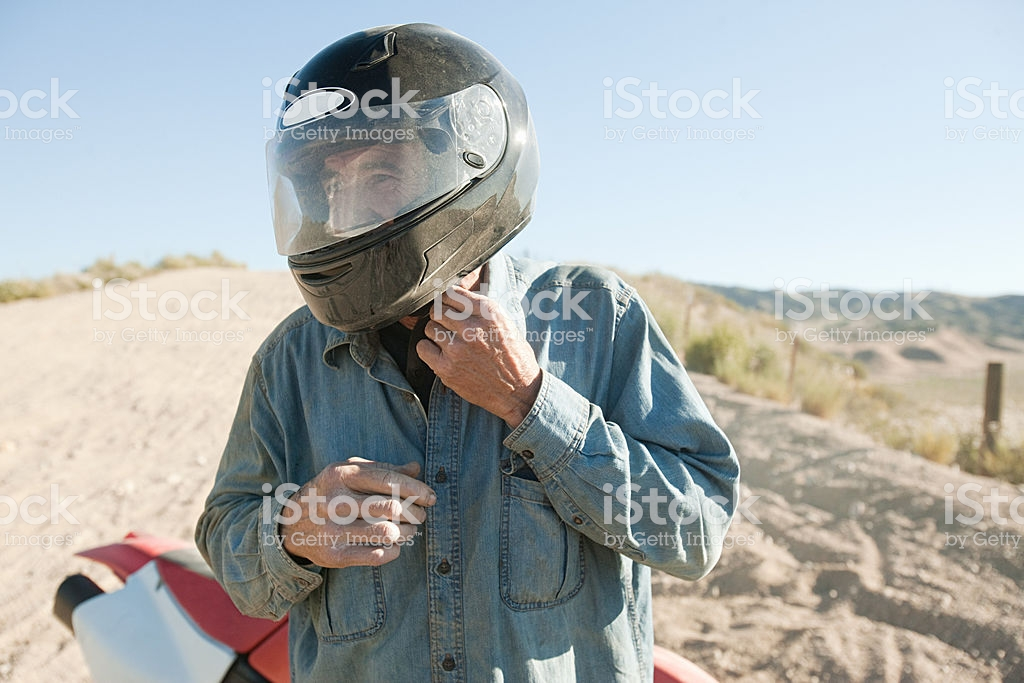helmet: (258, 34, 555, 291)
